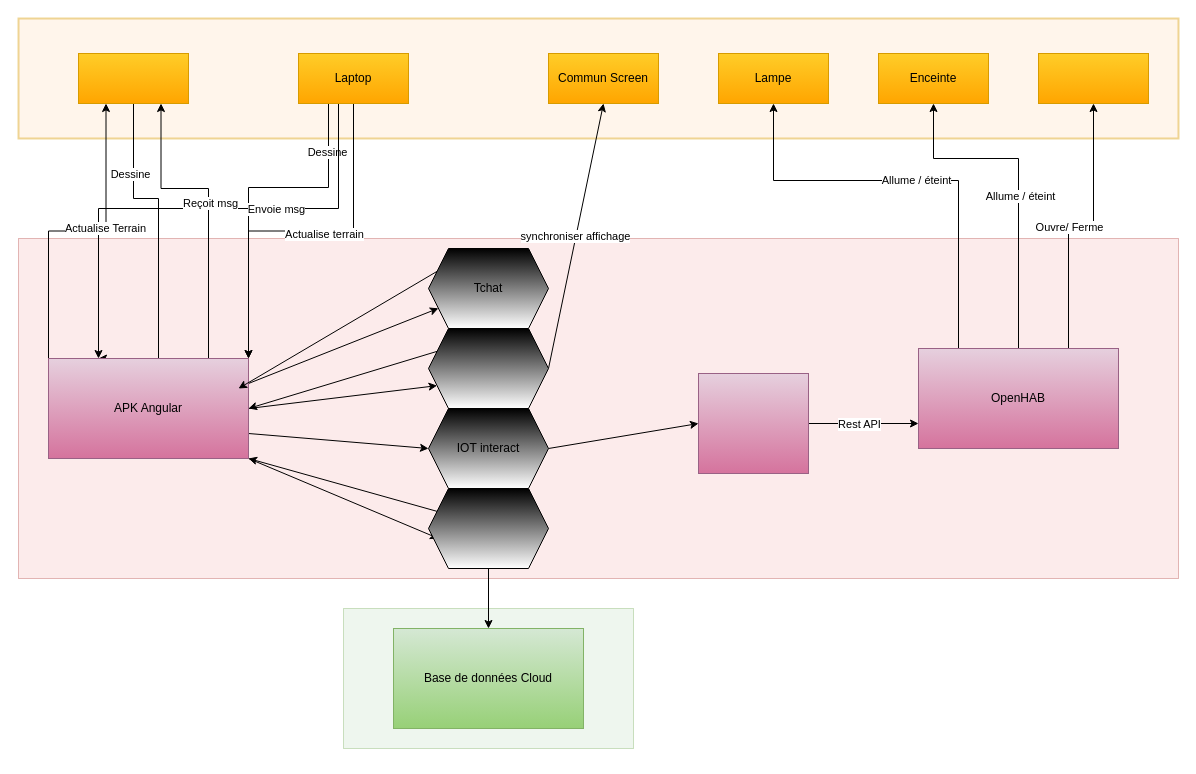
The diagram is 1196 pixels wide and 774 high, and some of its shapes have lost their labels. Each missing label, with the centre of its shape:
Canvas: pixel 488 368
Perso & Save: pixel 488 528
Server Node-RED: pixel 753 423
Smartphone: pixel 133 78
Store: pixel 1093 78
